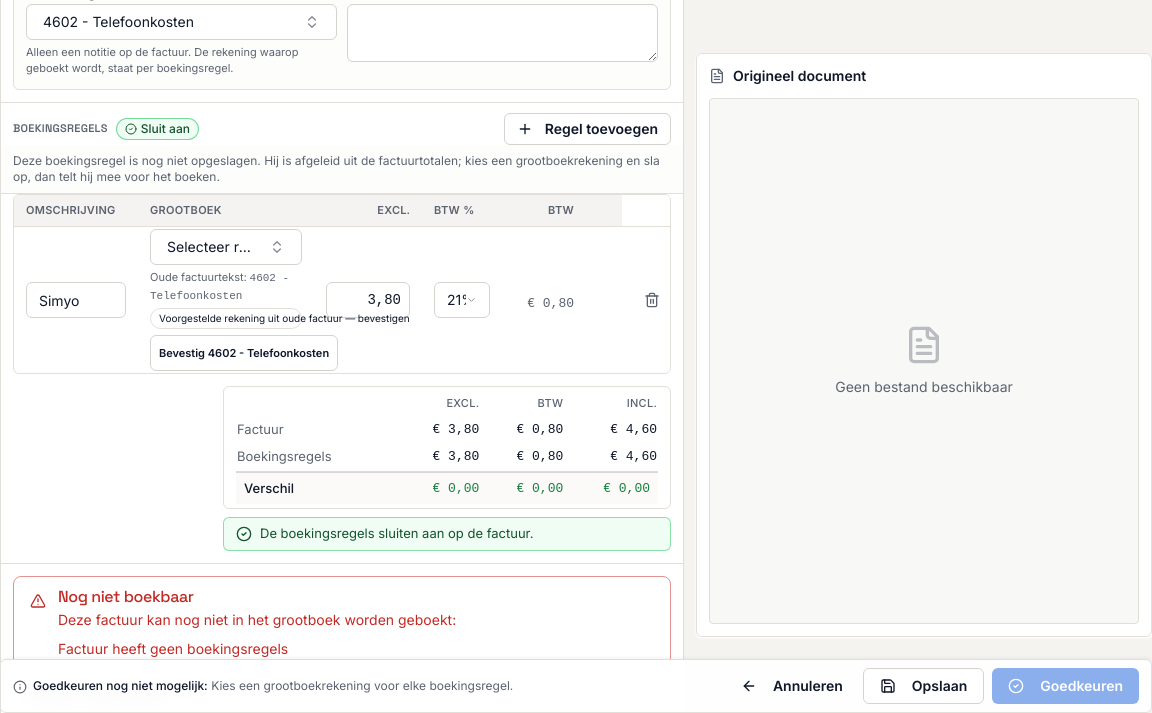
bevestigen en opslaan › 12. bevestigen kiest de échte rekening en heft de goedkeurblokkade op
The image size is (1152, 713).
(page scrolled)
Expected: the button "Goedkeuren" is disabled, [992, 668, 1139, 704]
Click the button with test id "legacy-account-confirm": (244, 353) [150, 335, 338, 371]
(page scrolled)
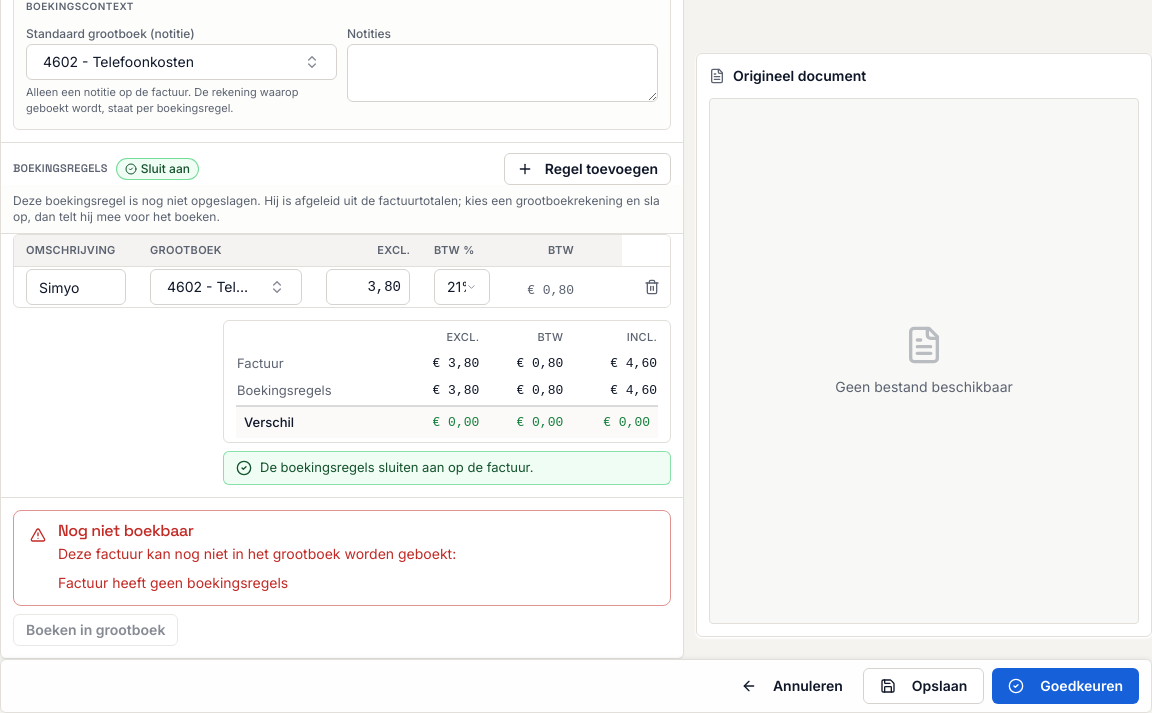
Expected: the button "Goedkeuren" is enabled, [992, 668, 1139, 704]
Expected: the dropdown labelled "4602 - Telefoonkosten" below "Omschrijving" is shown, [150, 269, 302, 305]
Expected: the element with test id "legacy-account-hint" is gone
